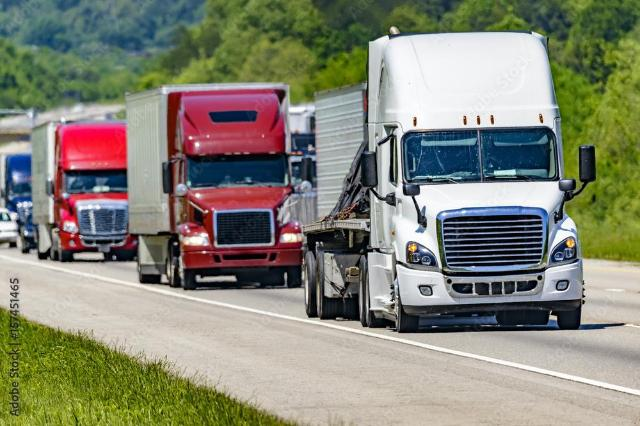truck: (297, 26, 609, 335), (124, 80, 308, 291), (31, 119, 137, 261)
